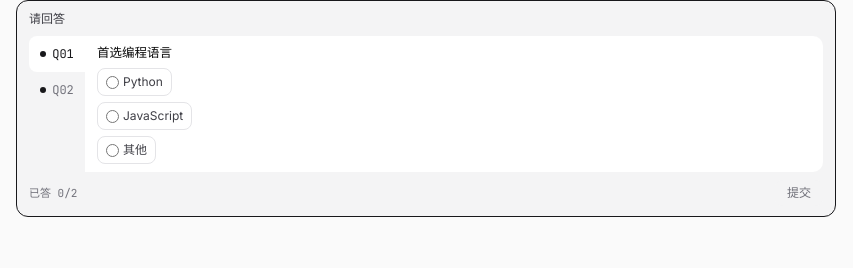
Test: ComponentPendingQuestionCard · 「其他」恒定渲染 › 输入文本同步输入框值；toggle off → 输入框消失 + 清理 selection（q2 多选）
Click the button with test id "pending-q-nav-q2": [57, 90] box [29, 72, 85, 108]
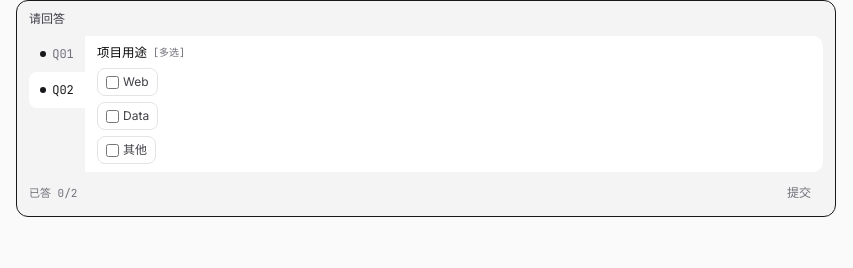
Click the text "其他": [126, 150] box [97, 136, 156, 164]
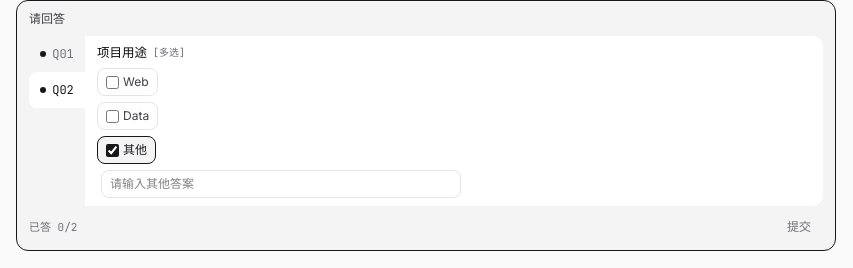
In the text box with placeholder "请输入其他答案": [281, 184] box [101, 170, 461, 198], type "因为需要灵活"
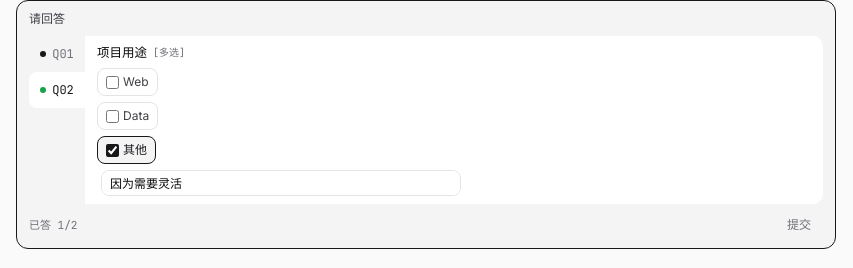
Click the text "其他": [126, 150] box [97, 136, 156, 164]
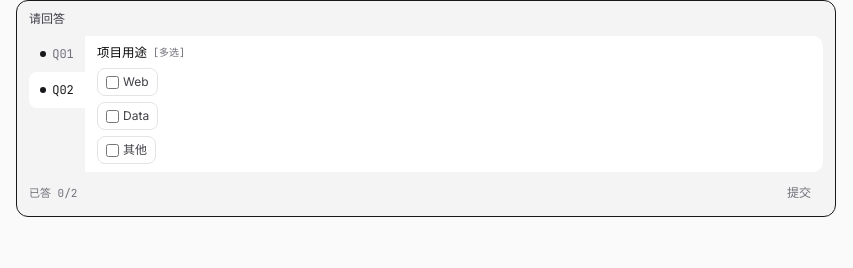
expect the text box with placeholder "请输入其他答案" is gone: met
